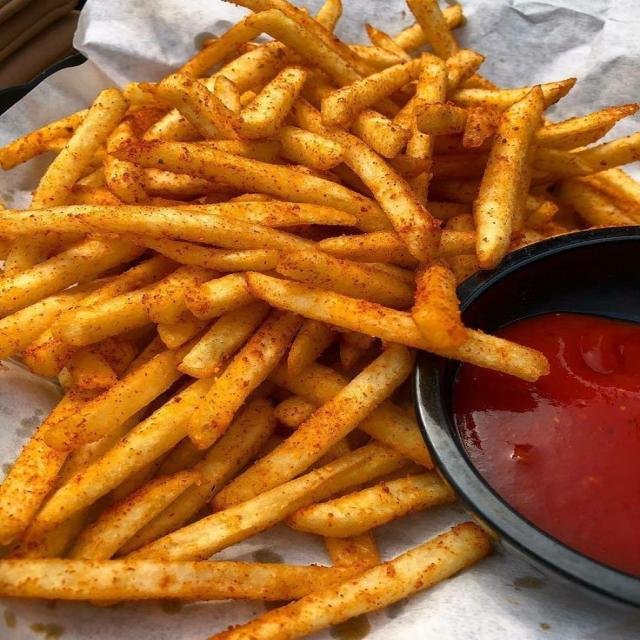potato fries: (0, 0, 639, 639), (212, 523, 489, 639), (247, 273, 548, 379), (217, 346, 413, 507), (187, 311, 301, 448), (0, 559, 358, 600), (474, 87, 544, 268), (288, 471, 455, 537)
